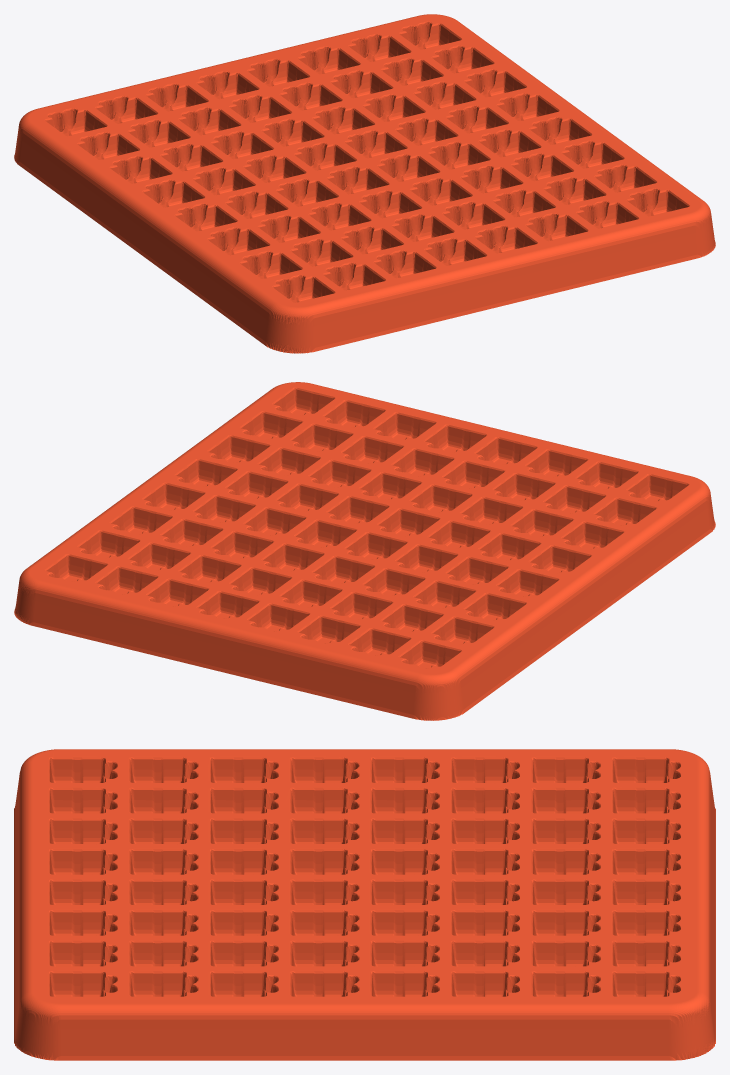
Rendered from mold.glb.
3 views of the same model, one above another, from view 1: azimuth 30°, elevation 25°; view 2: azimuth 150°, elevation 25°; view 3: azimuth 270°, elevation 25° (orthographic). The views are drawn at different scales.
Visible parts, largest first — view 1: geometry_0; view 2: geometry_0; view 3: geometry_0.
Boxes of the visible parts, box(x1,y1,x2,y2) form: geometry_0: box(14, 14, 715, 353); geometry_0: box(14, 382, 715, 720); geometry_0: box(14, 749, 715, 1060).
Size of the model in its own units: 0.1229 by 0.0105 by 0.1355.
